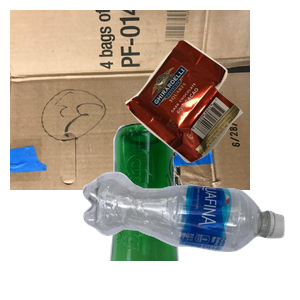cardboard: (10, 10, 250, 190)
glass: (107, 120, 278, 300)
plastic: (80, 169, 300, 300)
trash: (123, 37, 300, 192)
